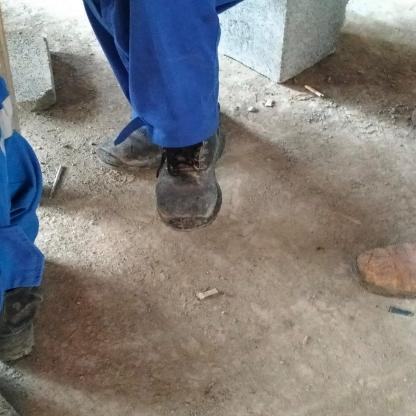bota: (153, 134, 231, 227)
